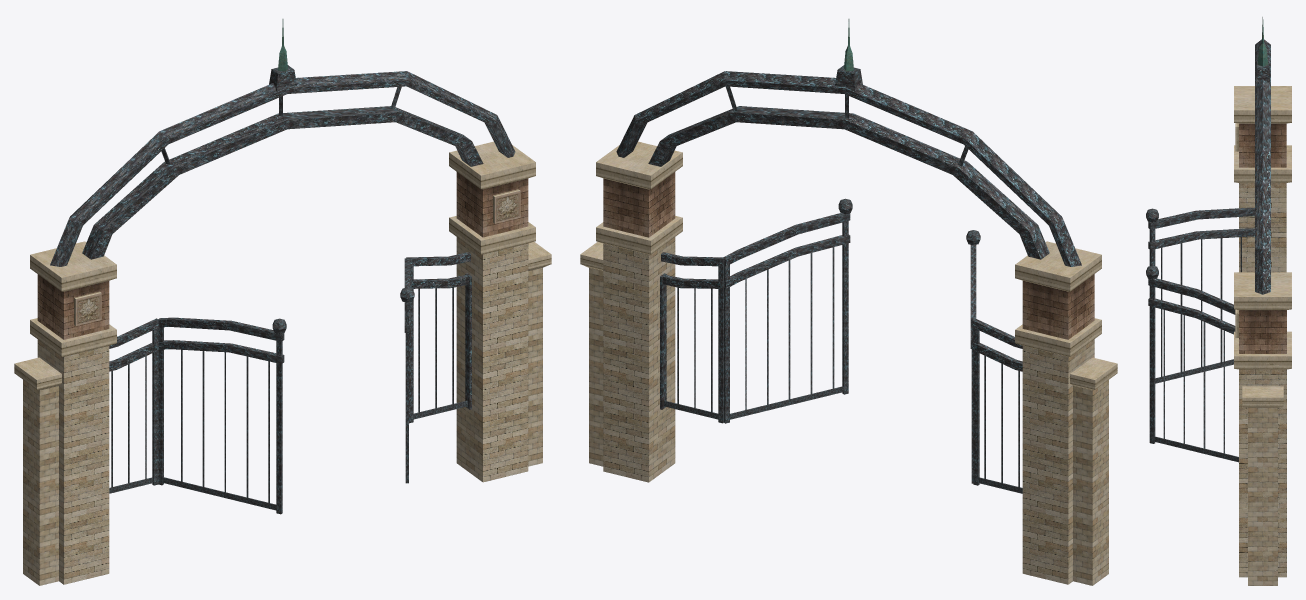
The model's file is thm_nboo_imprv_wide_gate_s01_l1.fbx.
The picture shows the model from 3 angles, left to right: view 1: azimuth 30°, elevation 25°; view 2: azimuth 150°, elevation 25°; view 3: azimuth 270°, elevation 25°; orthographic projection. The views are drawn at different scales.
Parts seen in each view (by area): view 1: mesh_node; view 2: mesh_node; view 3: mesh_node.
Part boxes in pixels (x1,y1,x2,y2): mesh_node: (14, 19, 551, 585); mesh_node: (580, 19, 1117, 585); mesh_node: (1146, 17, 1291, 585).
Size of the model in its own units: 16.55 by 15.49 by 4.45.
